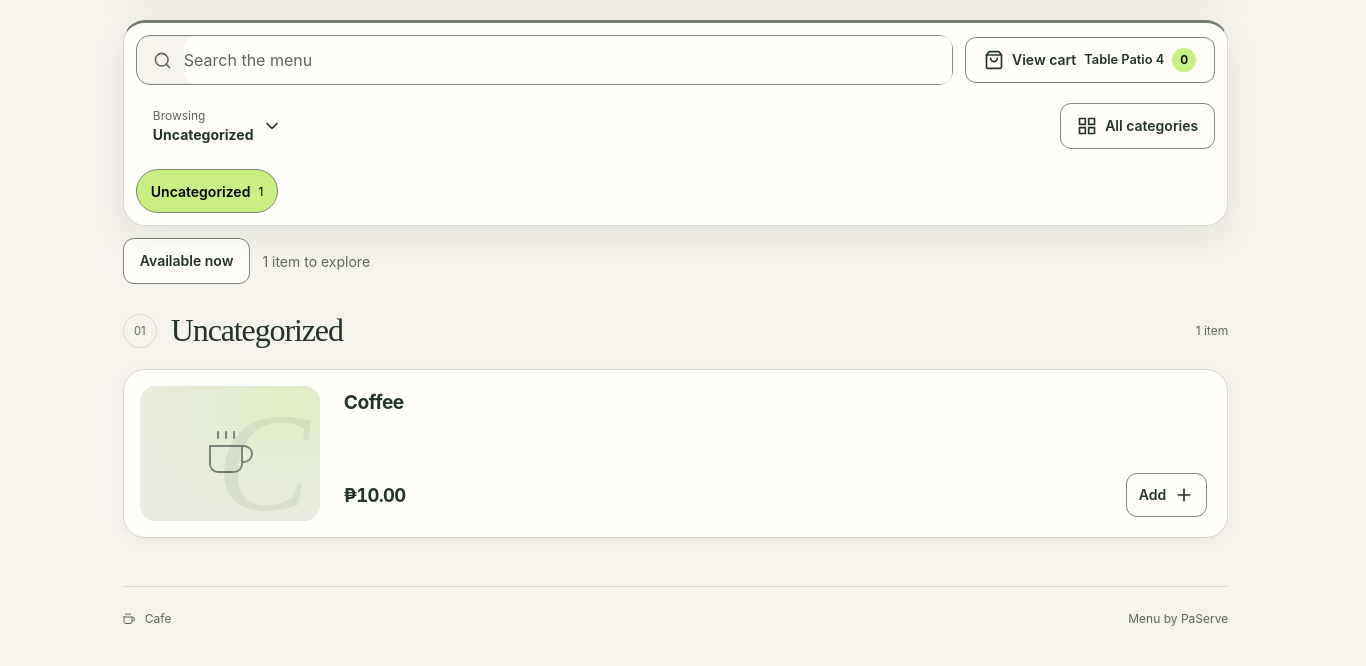
Test case: keeps table context while browsing product details, adding to cart, and preparing selections
(page scrolled)
Click the button with aria-label "Add Coffee": (1166, 495) [1126,473,1207,517]
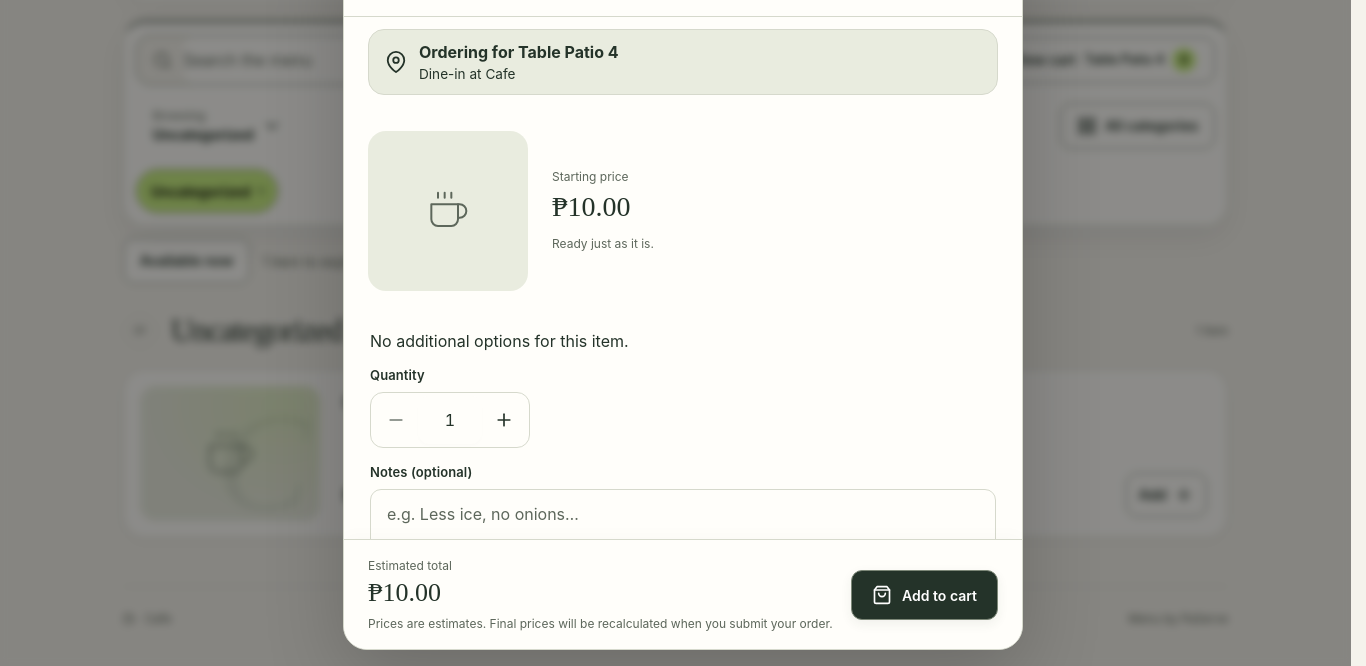
Now the button "Add to cart" is enabled
Click the button "Add to cart": (925, 595) [851,570,998,620]
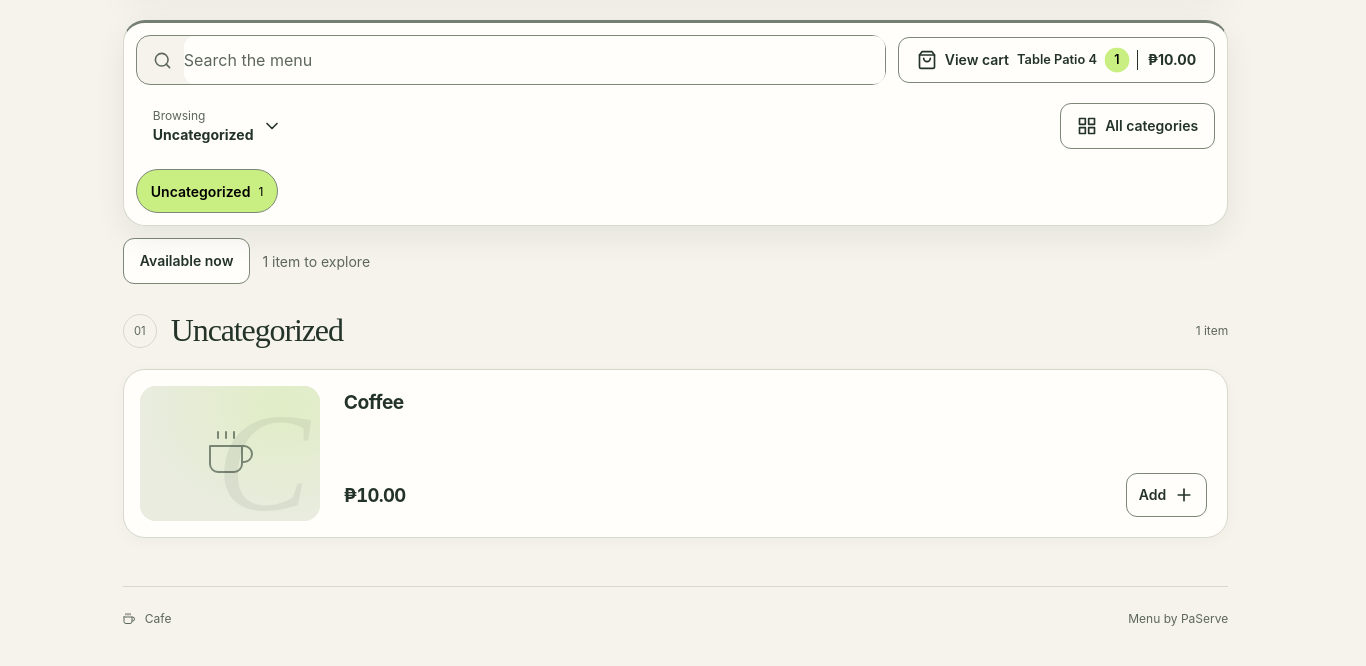
Click the button with aria-label "View cart (1)": (1056, 60) [898,37,1215,83]
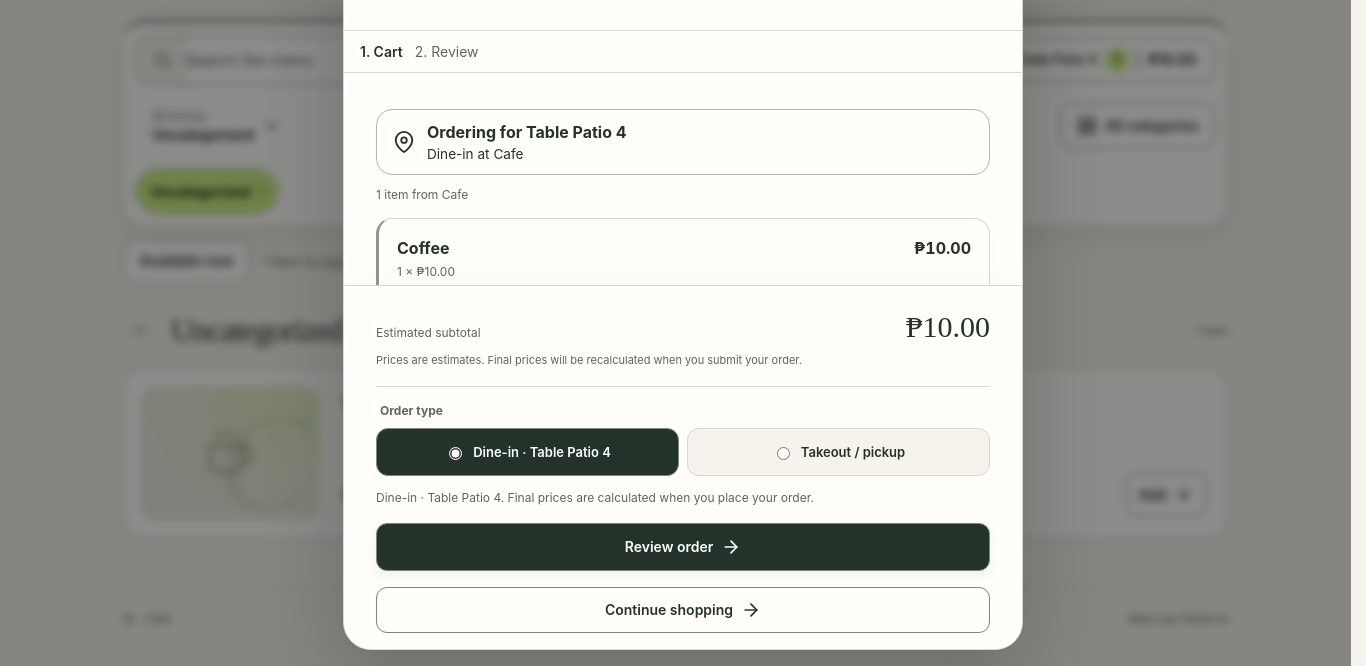
Now the text "Ordering for Table Patio 4" is shown, box [427,122,627,142]
